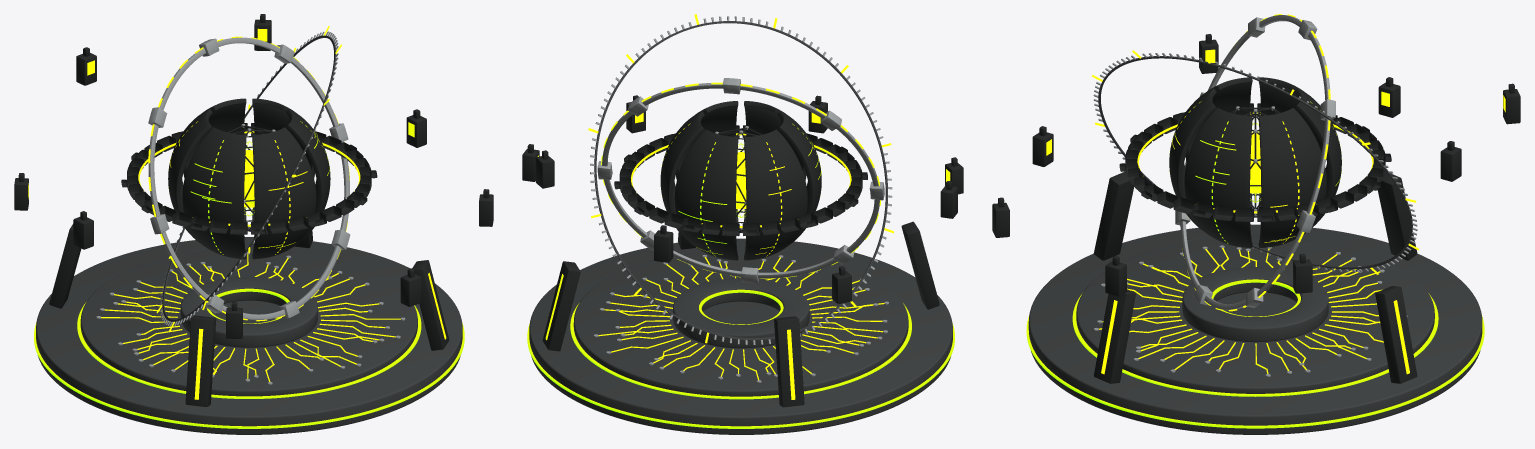
File: core.v2.glb
3 views of the same model, side by side, from view 1: azimuth 30°, elevation 25°; view 2: azimuth 150°, elevation 25°; view 3: azimuth 270°, elevation 25° (orthographic). The views are drawn at different scales.
Visible parts, largest first — view 1: Pedestal_Body, Petal_3_Shell, Petal_4_Shell, Ring_B_Rail, Ring_A_Segments, Pedestal_Pylons, Pedestal_Traces, Pedestal_Lights, Petal_2_Shell, Petal_5_Shell, Ring_C_Band, Petal_1_Shell (+13 smaller); view 2: Pedestal_Body, Petal_2_Shell, Petal_1_Shell, Ring_B_Rail, Pedestal_Pylons, Ring_A_Segments, Pedestal_Lights, Pedestal_Traces, Ring_C_Band, Petal_0_Shell, Petal_3_Shell, Ring_C_Ticks (+13 smaller); view 3: Pedestal_Body, Pedestal_Pylons, Petal_5_Shell, Petal_0_Shell, Ring_A_Segments, Ring_B_Rail, Pedestal_Lights, Pedestal_Traces, Petal_4_Shell, Ring_C_Band, Petal_1_Shell, Petal_3_Shell (+15 smaller).
Part boxes in pixels (left/top/right/bottom): Pedestal_Body: left=36, top=237, right=462, bottom=434; Petal_3_Shell: left=182, top=127, right=246, bottom=259; Petal_4_Shell: left=252, top=127, right=316, bottom=259; Ring_B_Rail: left=148, top=37, right=350, bottom=320; Ring_A_Segments: left=121, top=123, right=377, bottom=234; Pedestal_Pylons: left=49, top=224, right=449, bottom=406; Pedestal_Traces: left=101, top=254, right=400, bottom=381; Pedestal_Lights: left=34, top=288, right=464, bottom=428; Petal_2_Shell: left=168, top=109, right=212, bottom=243; Petal_5_Shell: left=286, top=109, right=330, bottom=243; Ring_C_Band: left=162, top=35, right=336, bottom=321; Petal_1_Shell: left=183, top=98, right=246, bottom=220; Pedestal_Body: left=529, top=238, right=952, bottom=434; Petal_2_Shell: left=744, top=129, right=807, bottom=260; Petal_1_Shell: left=674, top=129, right=738, bottom=260; Ring_B_Rail: left=597, top=78, right=884, bottom=283; Pedestal_Pylons: left=542, top=221, right=939, bottom=407; Ring_A_Segments: left=614, top=125, right=867, bottom=236; Pedestal_Lights: left=527, top=289, right=954, bottom=428; Pedestal_Traces: left=598, top=257, right=884, bottom=380; Ring_C_Band: left=594, top=21, right=887, bottom=340; Petal_0_Shell: left=660, top=111, right=704, bottom=244; Petal_3_Shell: left=777, top=111, right=821, bottom=244; Ring_C_Ticks: left=590, top=16, right=892, bottom=344; Pedestal_Body: left=1028, top=224, right=1482, bottom=434; Pedestal_Pylons: left=1093, top=171, right=1417, bottom=383; Petal_5_Shell: left=1184, top=108, right=1252, bottom=248; Petal_0_Shell: left=1258, top=107, right=1326, bottom=247; Ring_A_Segments: left=1119, top=103, right=1391, bottom=221; Ring_B_Rail: left=1175, top=15, right=1335, bottom=310; Pedestal_Lights: left=1026, top=279, right=1484, bottom=428; Pedestal_Traces: left=1099, top=247, right=1383, bottom=373; Petal_4_Shell: left=1169, top=88, right=1216, bottom=231; Ring_C_Band: left=1098, top=56, right=1412, bottom=269; Petal_1_Shell: left=1294, top=88, right=1341, bottom=227; Petal_3_Shell: left=1185, top=77, right=1252, bottom=208.
Size of the model in its own units: 6.57 by 4.82 by 7.22.
